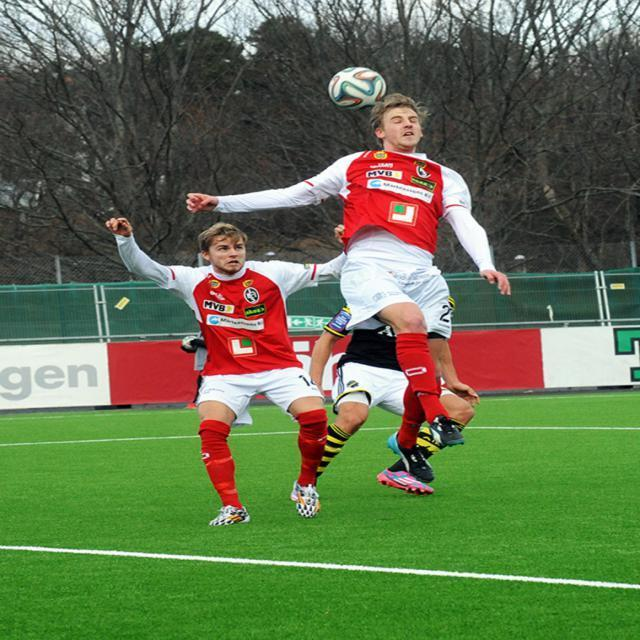football: (319, 51, 395, 114)
